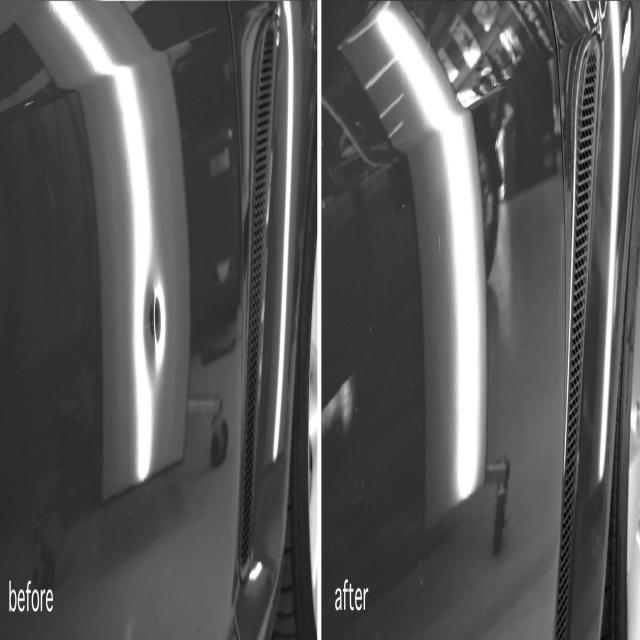dent: (142, 256, 169, 372)
